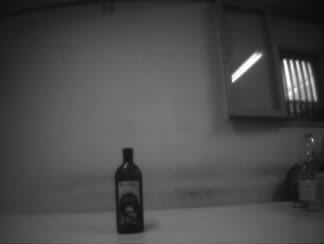Bottle: (113, 147, 146, 234), (295, 131, 321, 212)
